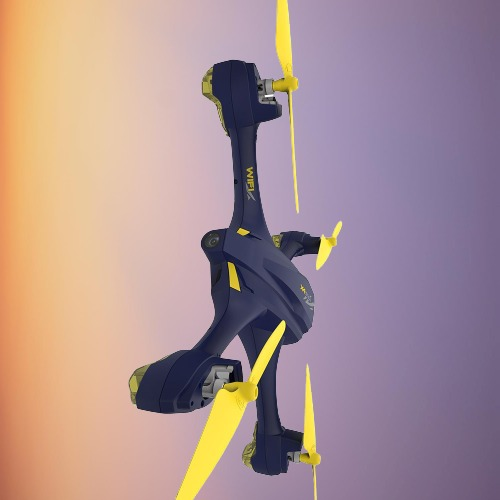drone: (129, 0, 343, 500)
